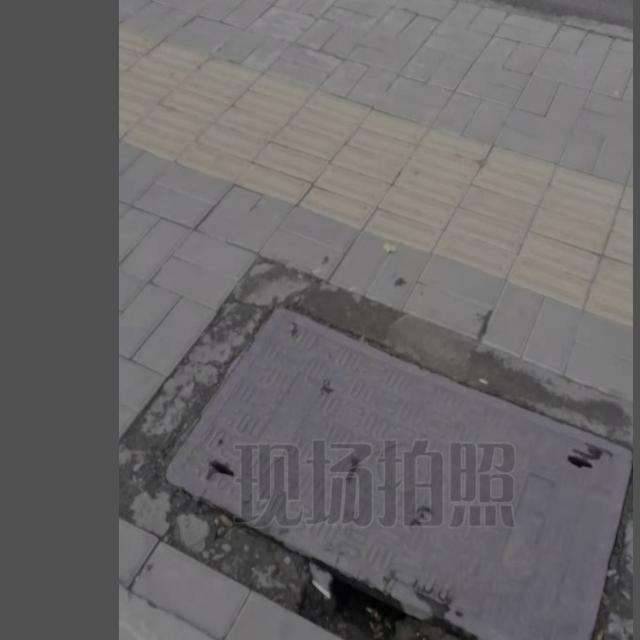circle: (124, 257, 633, 640)
